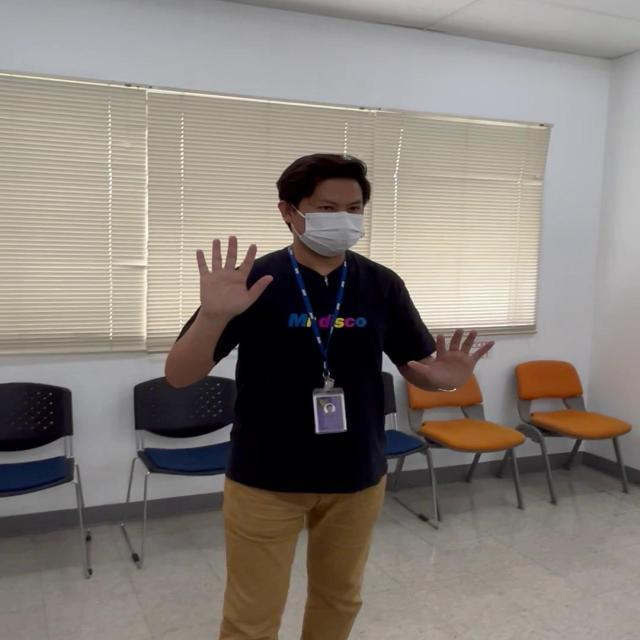bare_hand: (191, 232, 271, 315), (407, 325, 496, 390)
